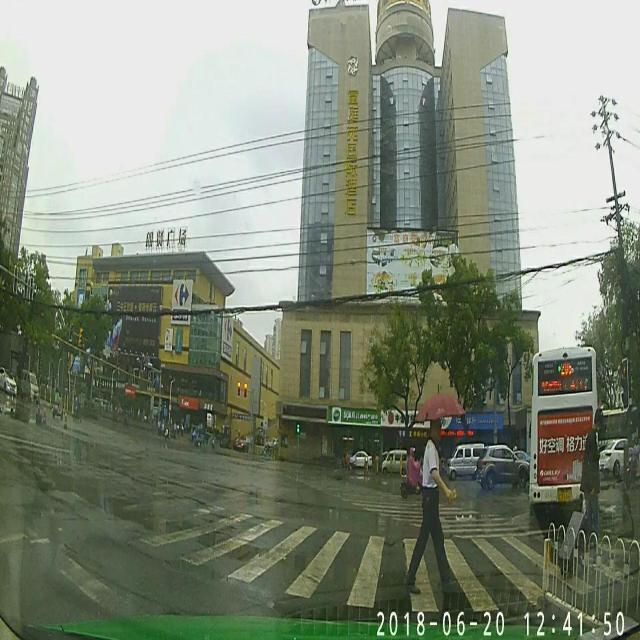car: (478, 446, 529, 488)
